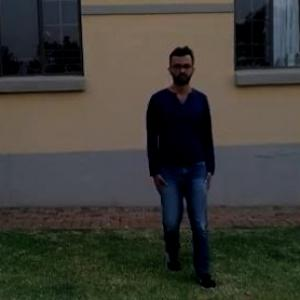follow: (146, 48, 212, 275)
